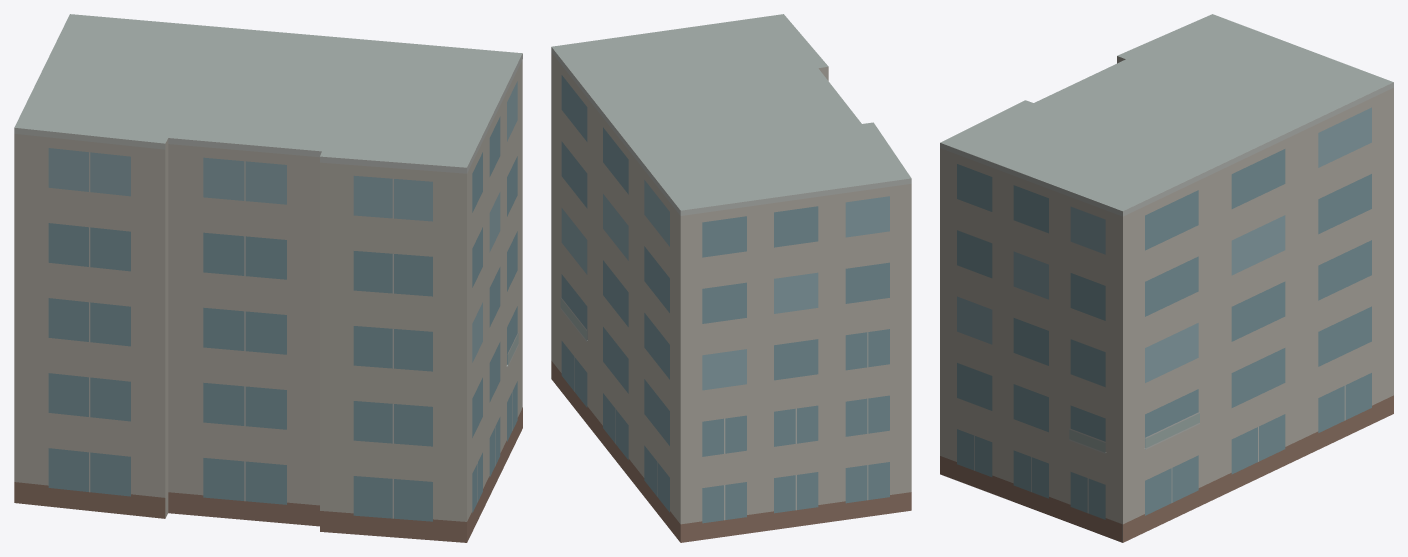
The model's file is survey-upis-32663764.glb.
3 renders of one model, left to right at view 1: azimuth 30°, elevation 25°; view 2: azimuth 150°, elevation 25°; view 3: azimuth 270°, elevation 25°, orthographic. The views are drawn at different scales.
Visible parts, largest first — view 1: survey-upis-32663764.tmp; view 2: survey-upis-32663764.tmp; view 3: survey-upis-32663764.tmp.
Boxes of the visible parts, x1,y1,x2,y2 form: survey-upis-32663764.tmp: (14,14,522,542); survey-upis-32663764.tmp: (551,14,911,542); survey-upis-32663764.tmp: (940,14,1393,542).
Bounding box in the file's own units: 19.35 × 15.15 × 18.8.
